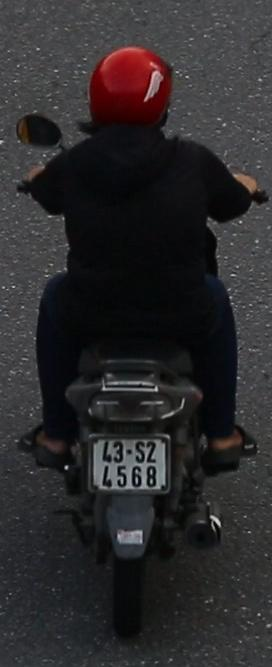LP: (85, 429, 175, 499)
helmet: (84, 42, 178, 145)
